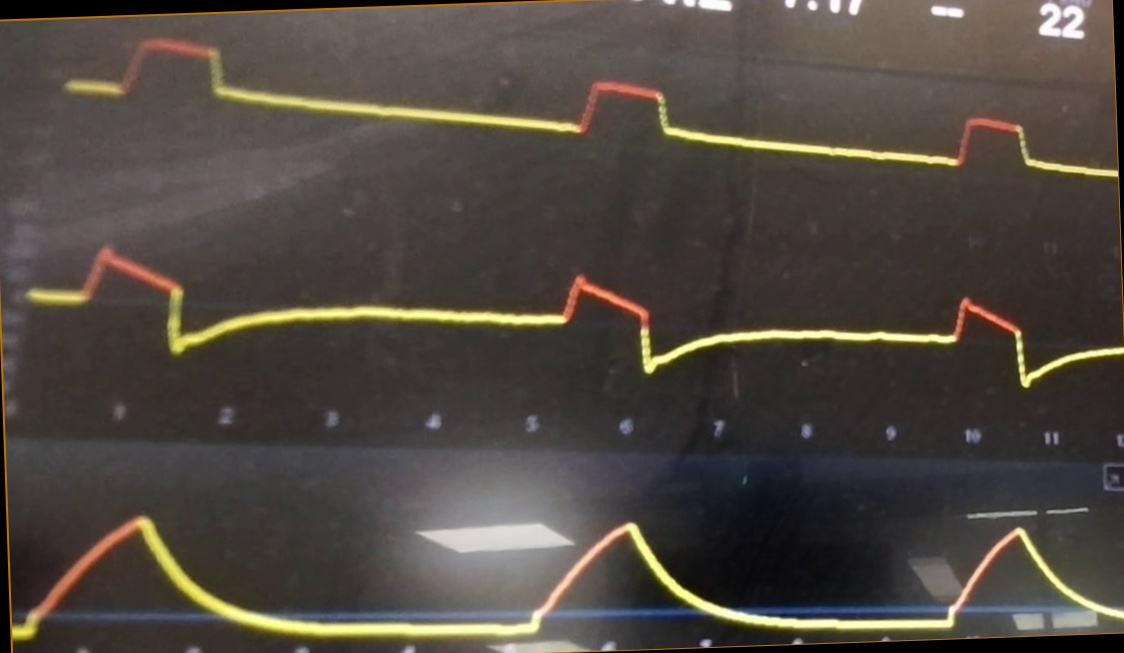Normal Flow: (25, 223, 1115, 391)
Normal Volume: (14, 472, 1124, 650)
